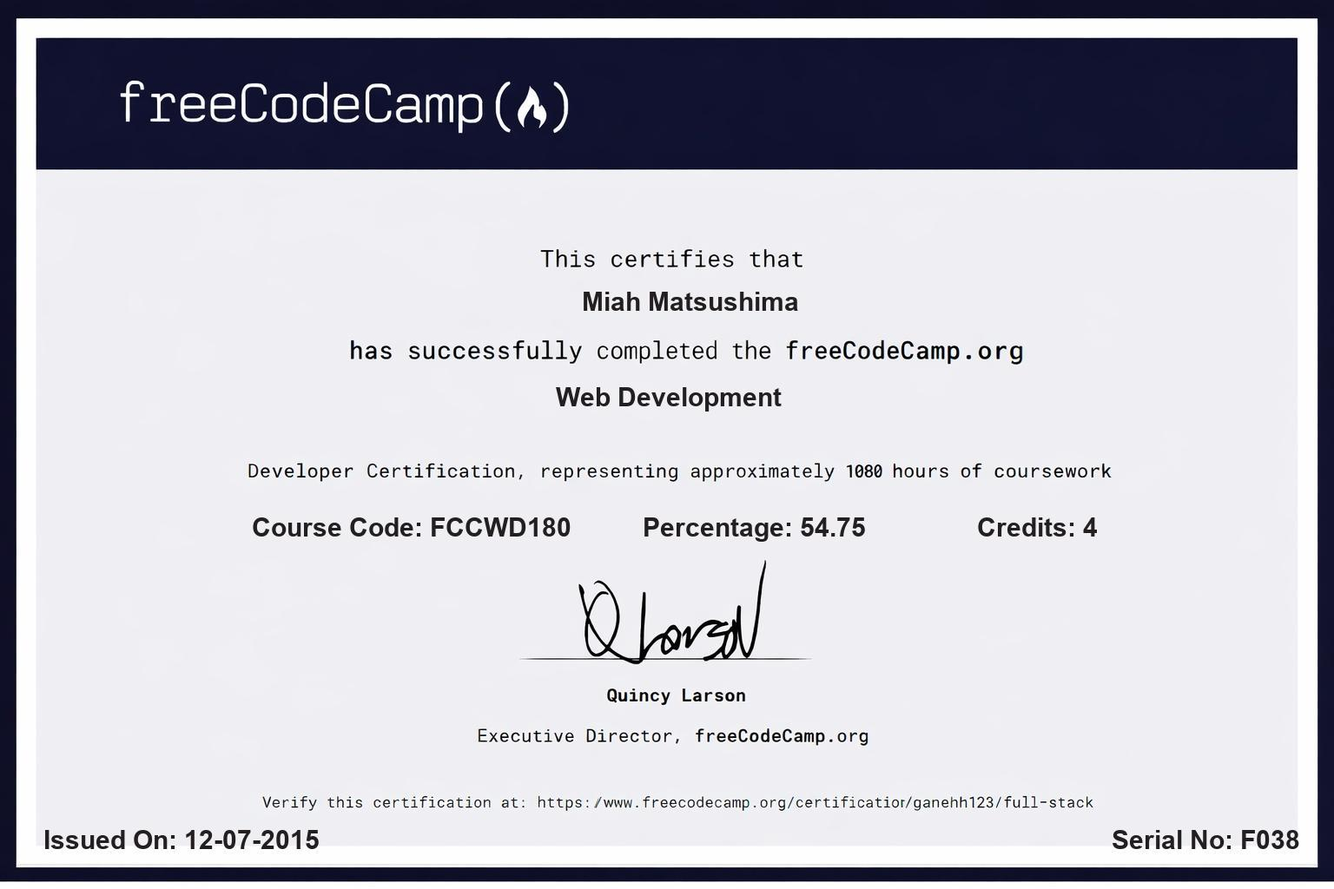Course Code: (424, 504, 578, 551)
Course Name: (544, 377, 798, 422)
Credits: (1080, 510, 1108, 550)
Issued On: (179, 817, 328, 857)
Percentage: (795, 508, 874, 549)
Serial No: (1235, 817, 1308, 861)
Student Name: (575, 281, 805, 325)
